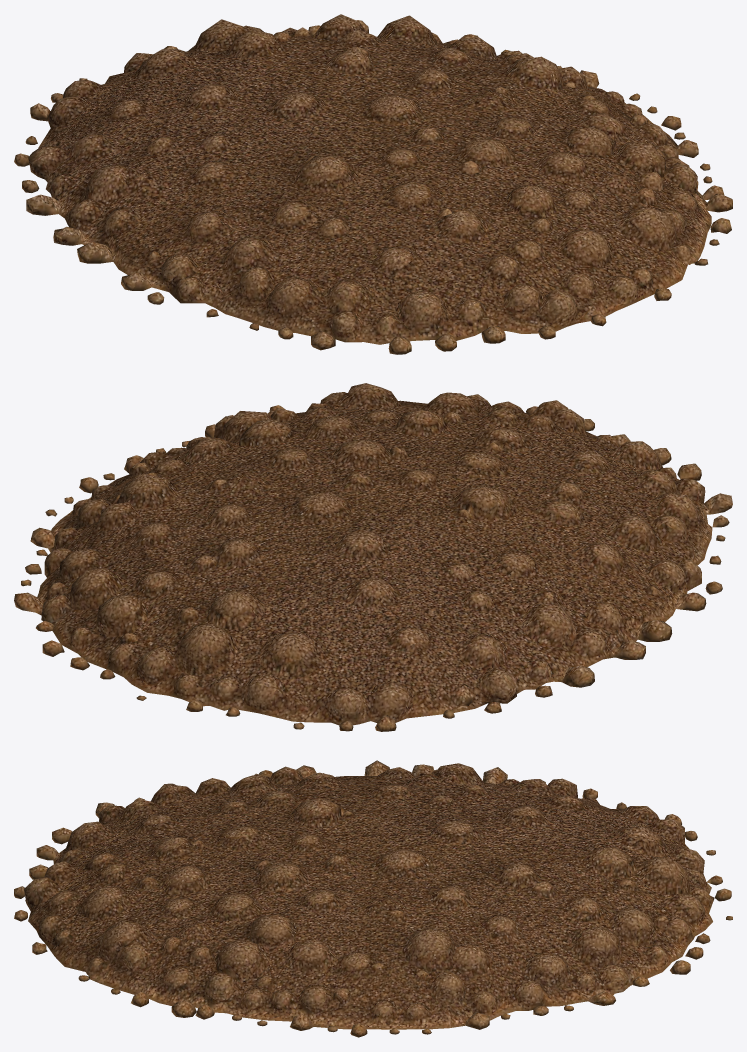
File: soil+pile+3d+model+512.glb
3 views of the same model, one above another, from view 1: azimuth 30°, elevation 25°; view 2: azimuth 150°, elevation 25°; view 3: azimuth 270°, elevation 25° (orthographic). The views are drawn at different scales.
Parts seen in each view (by area): view 1: tripo_node_7e6f3b90-5c00-4b49-84e7-c01c8d6d3fe5; view 2: tripo_node_7e6f3b90-5c00-4b49-84e7-c01c8d6d3fe5; view 3: tripo_node_7e6f3b90-5c00-4b49-84e7-c01c8d6d3fe5.
Part boxes in pixels (<box>): tripo_node_7e6f3b90-5c00-4b49-84e7-c01c8d6d3fe5: <box>14,14,732,354</box>; tripo_node_7e6f3b90-5c00-4b49-84e7-c01c8d6d3fe5: <box>14,383,732,731</box>; tripo_node_7e6f3b90-5c00-4b49-84e7-c01c8d6d3fe5: <box>14,760,732,1037</box>.
Size of the model in its own units: 0.873 by 0.1074 by 0.998.
Materials: 1 (1 with a texture image).
